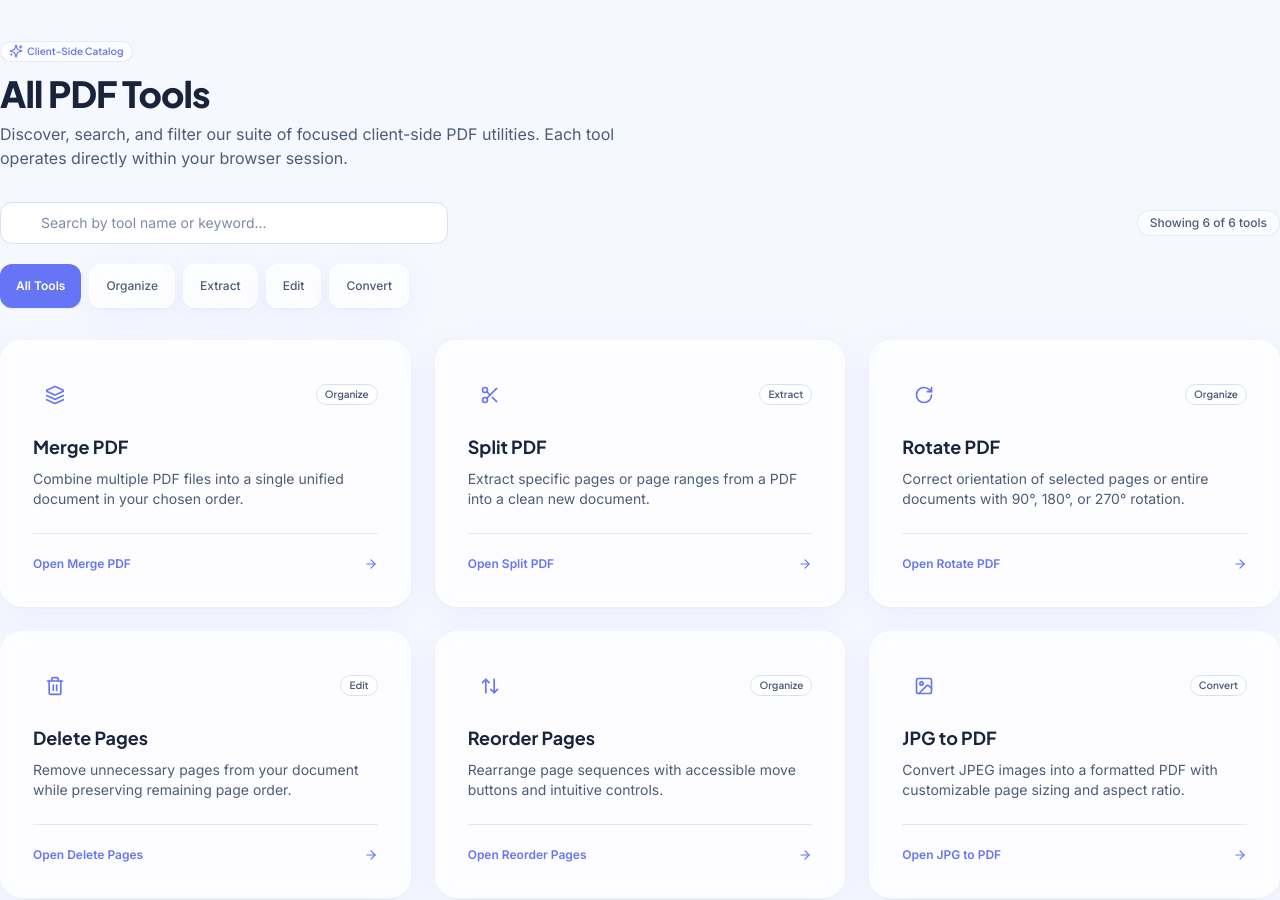
Scenario: AllTools Page Component (WEB-02) › filters tools by search term matching description keywords
# Search for keyword in JPG to PDF description: "customizable" or "JPEG"
Type "JPEG" into the field with placeholder "Search by tool name or keyword...". click: [224, 222]
box: [0,202,448,244]
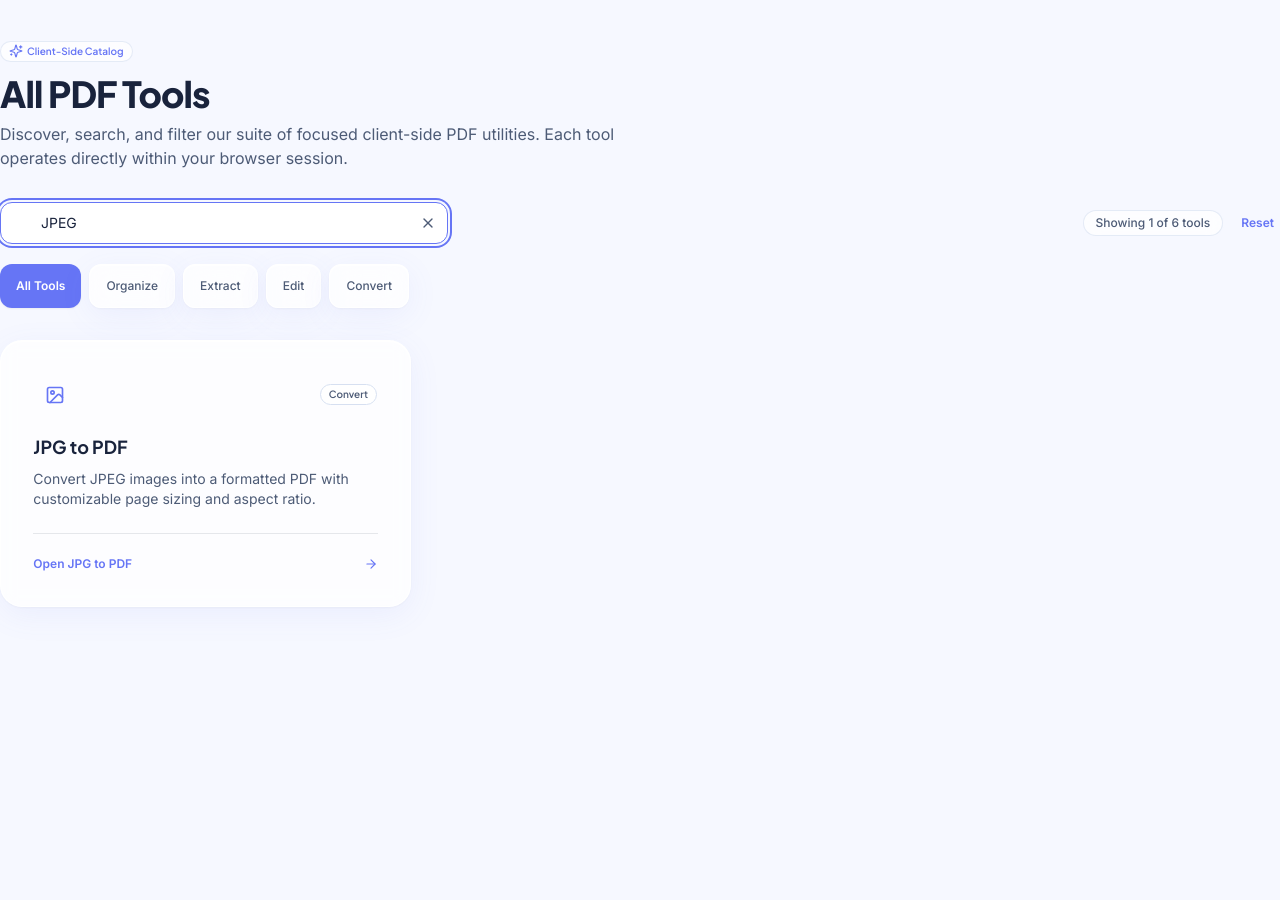
Expected: the heading "JPG to PDF" is shown, [33,434,127,458]
Expected: the text "Showing 1 of 6 tools" is shown, [1082,210,1223,236]
Expected: the heading "Merge PDF" is gone
